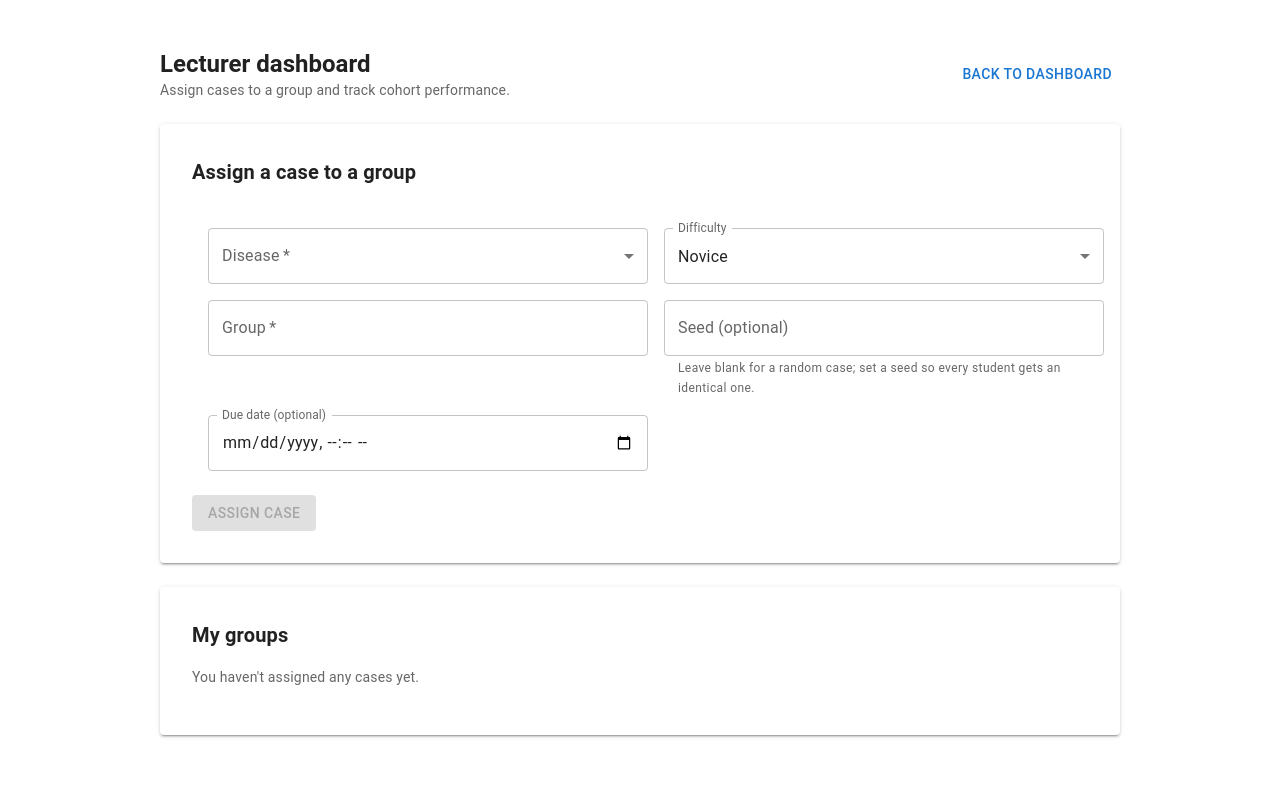
LecturerDashboardPage › assigns a case to a group and reports success
The image size is (1280, 800).
Check: the text "You haven't assigned any cases yet." is shown, box top-left (192, 669), bottom-right (419, 685)
Step 1. Click the dropdown named "Disease" → (428, 256), box top-left (208, 228), bottom-right (648, 284)
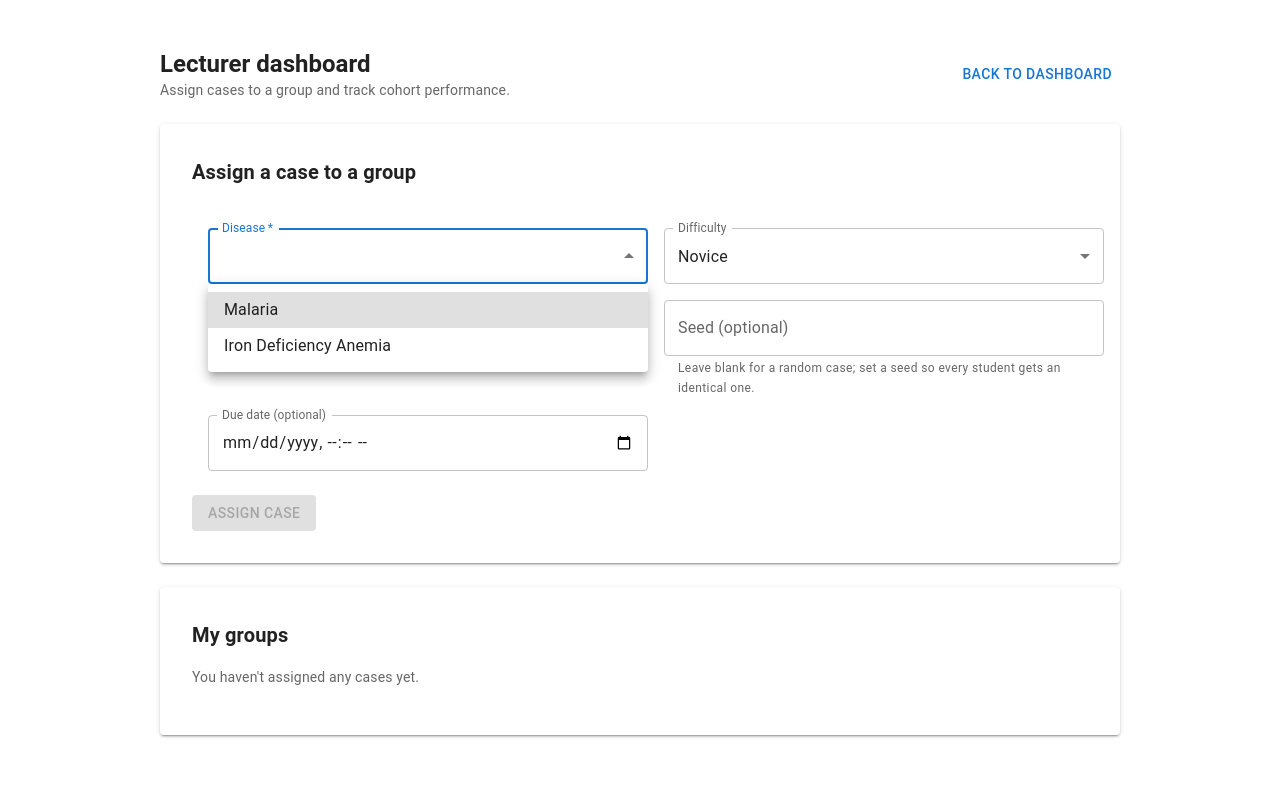
Step 2. Click the option "Malaria" → (251, 310), box top-left (208, 292), bottom-right (648, 328)
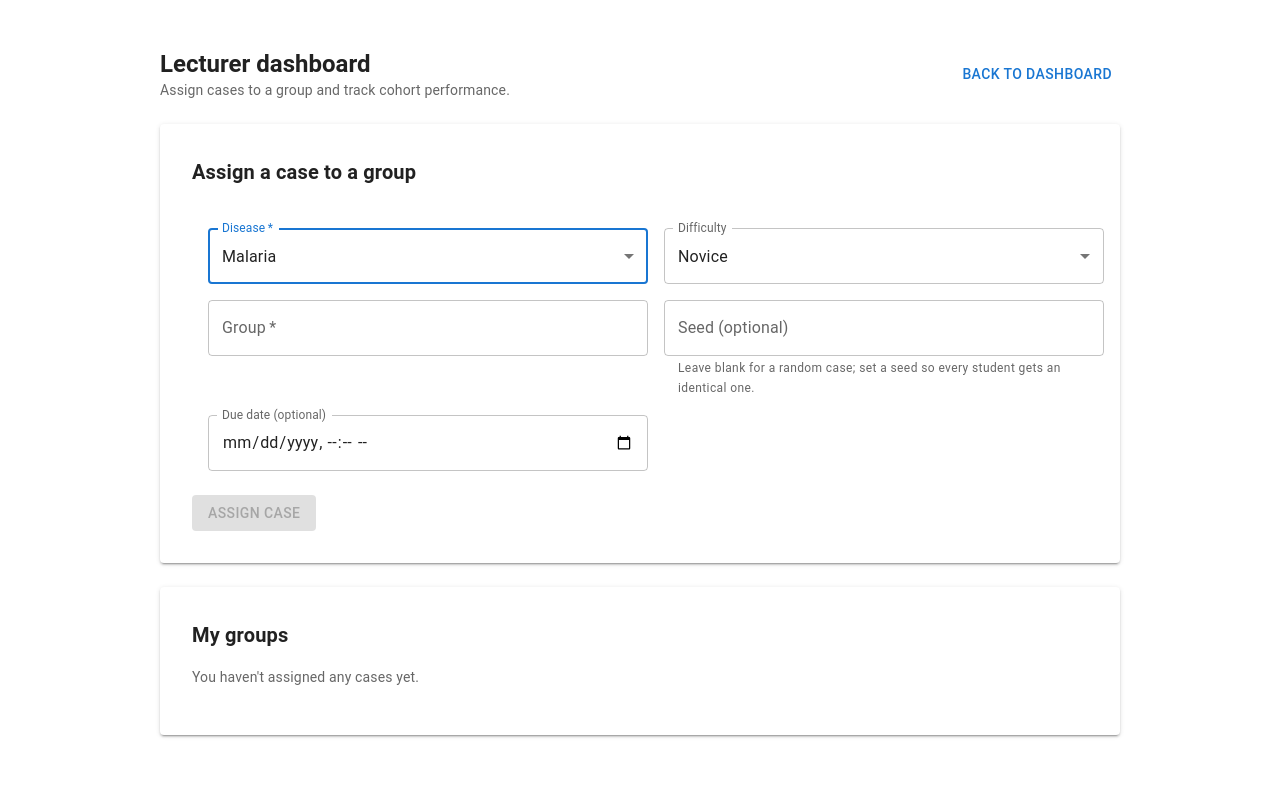
Step 3. Type "BLS-Y3-A" into the field labelled "Group" → (428, 328), box top-left (208, 300), bottom-right (648, 356)
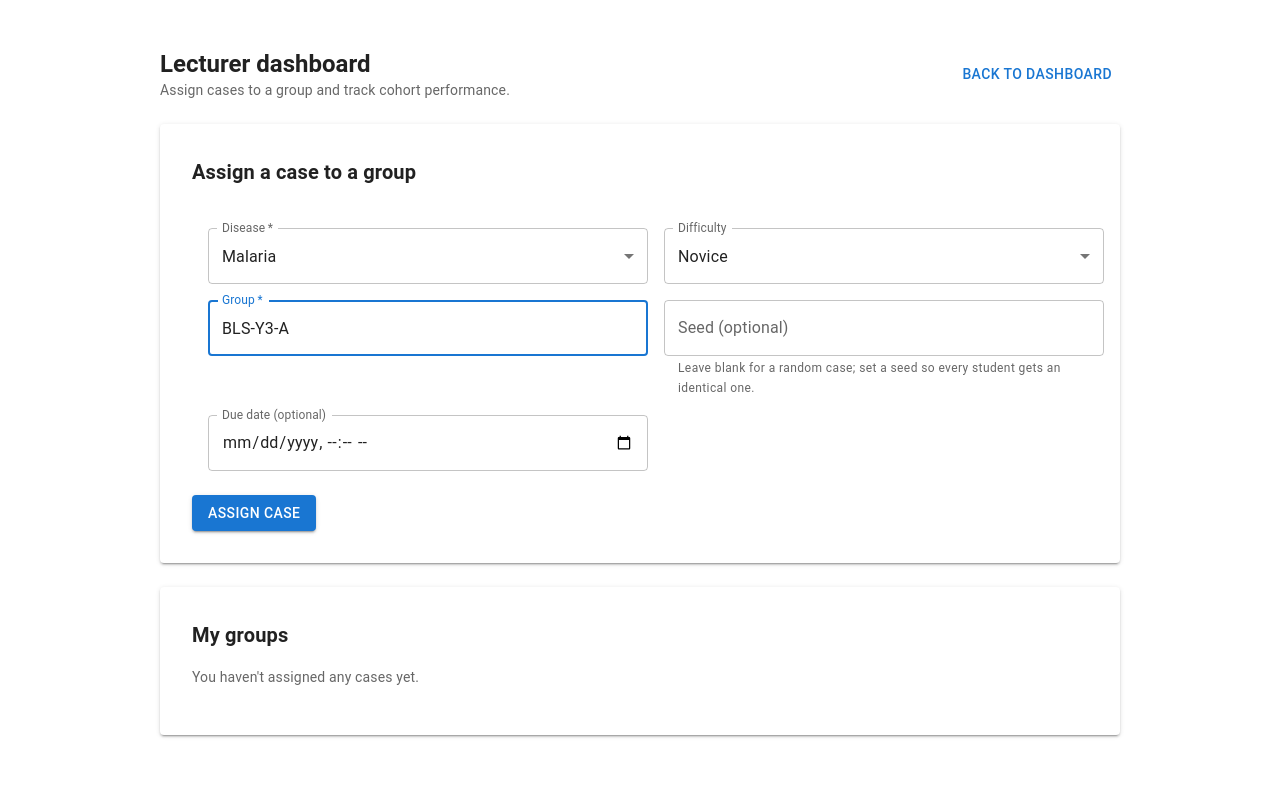
Step 4. Click the button "Assign case" → (254, 513), box top-left (192, 495), bottom-right (316, 531)
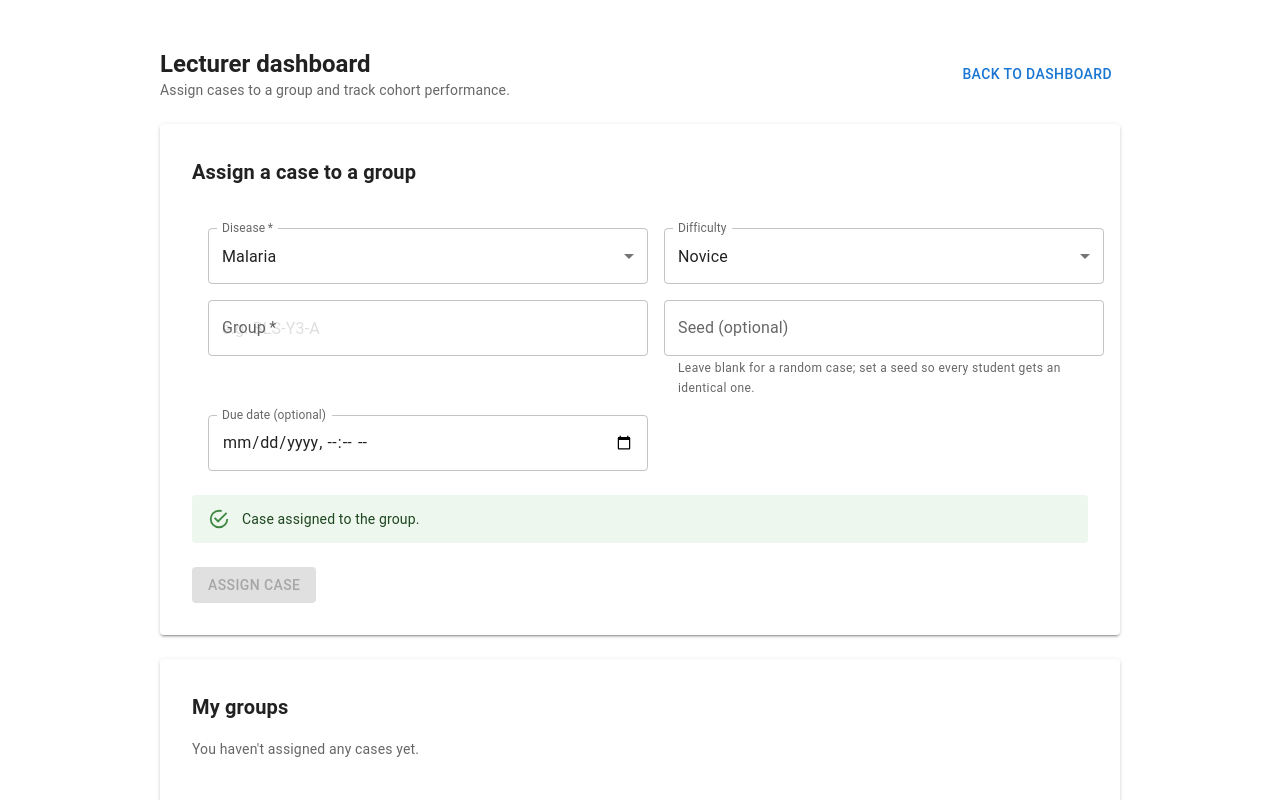
Check: the text "Case assigned to the group." is shown, box top-left (242, 511), bottom-right (420, 527)
